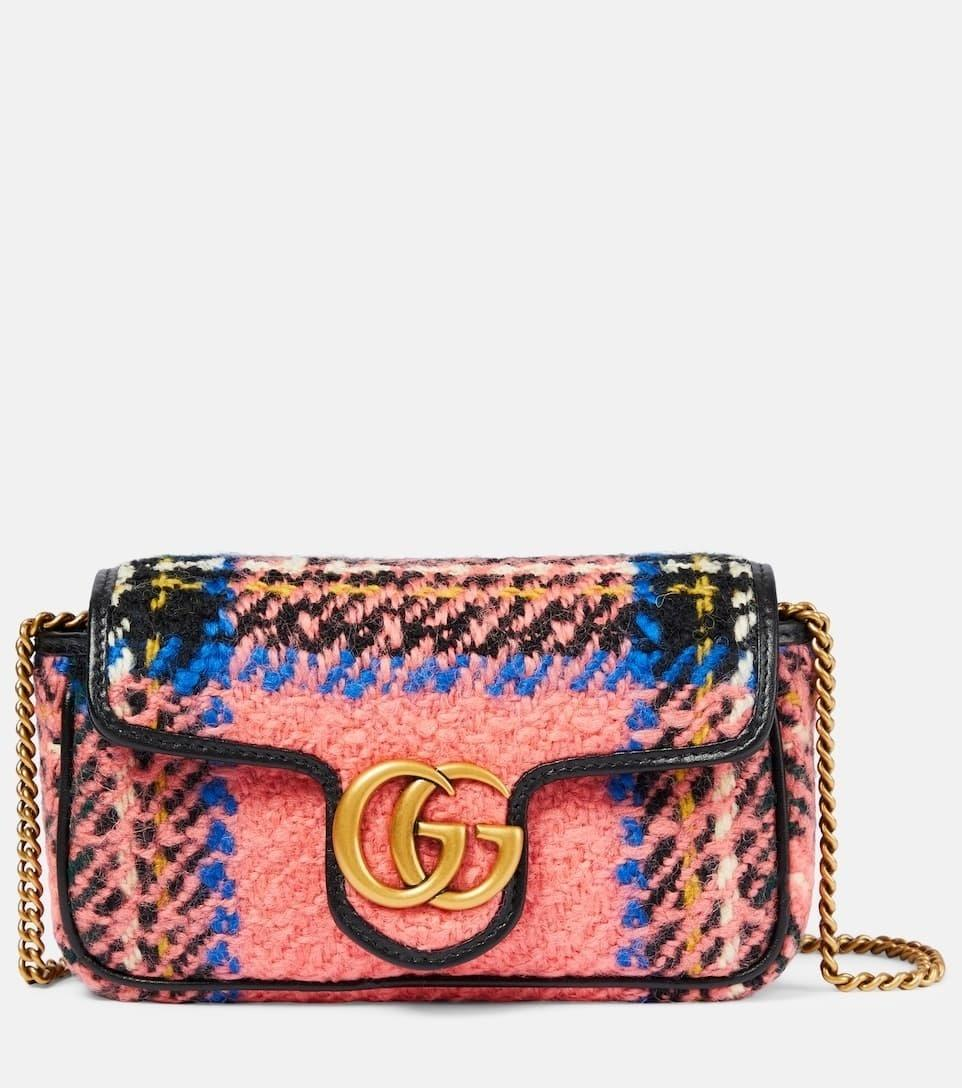GUCCI: (333, 759, 525, 911)
